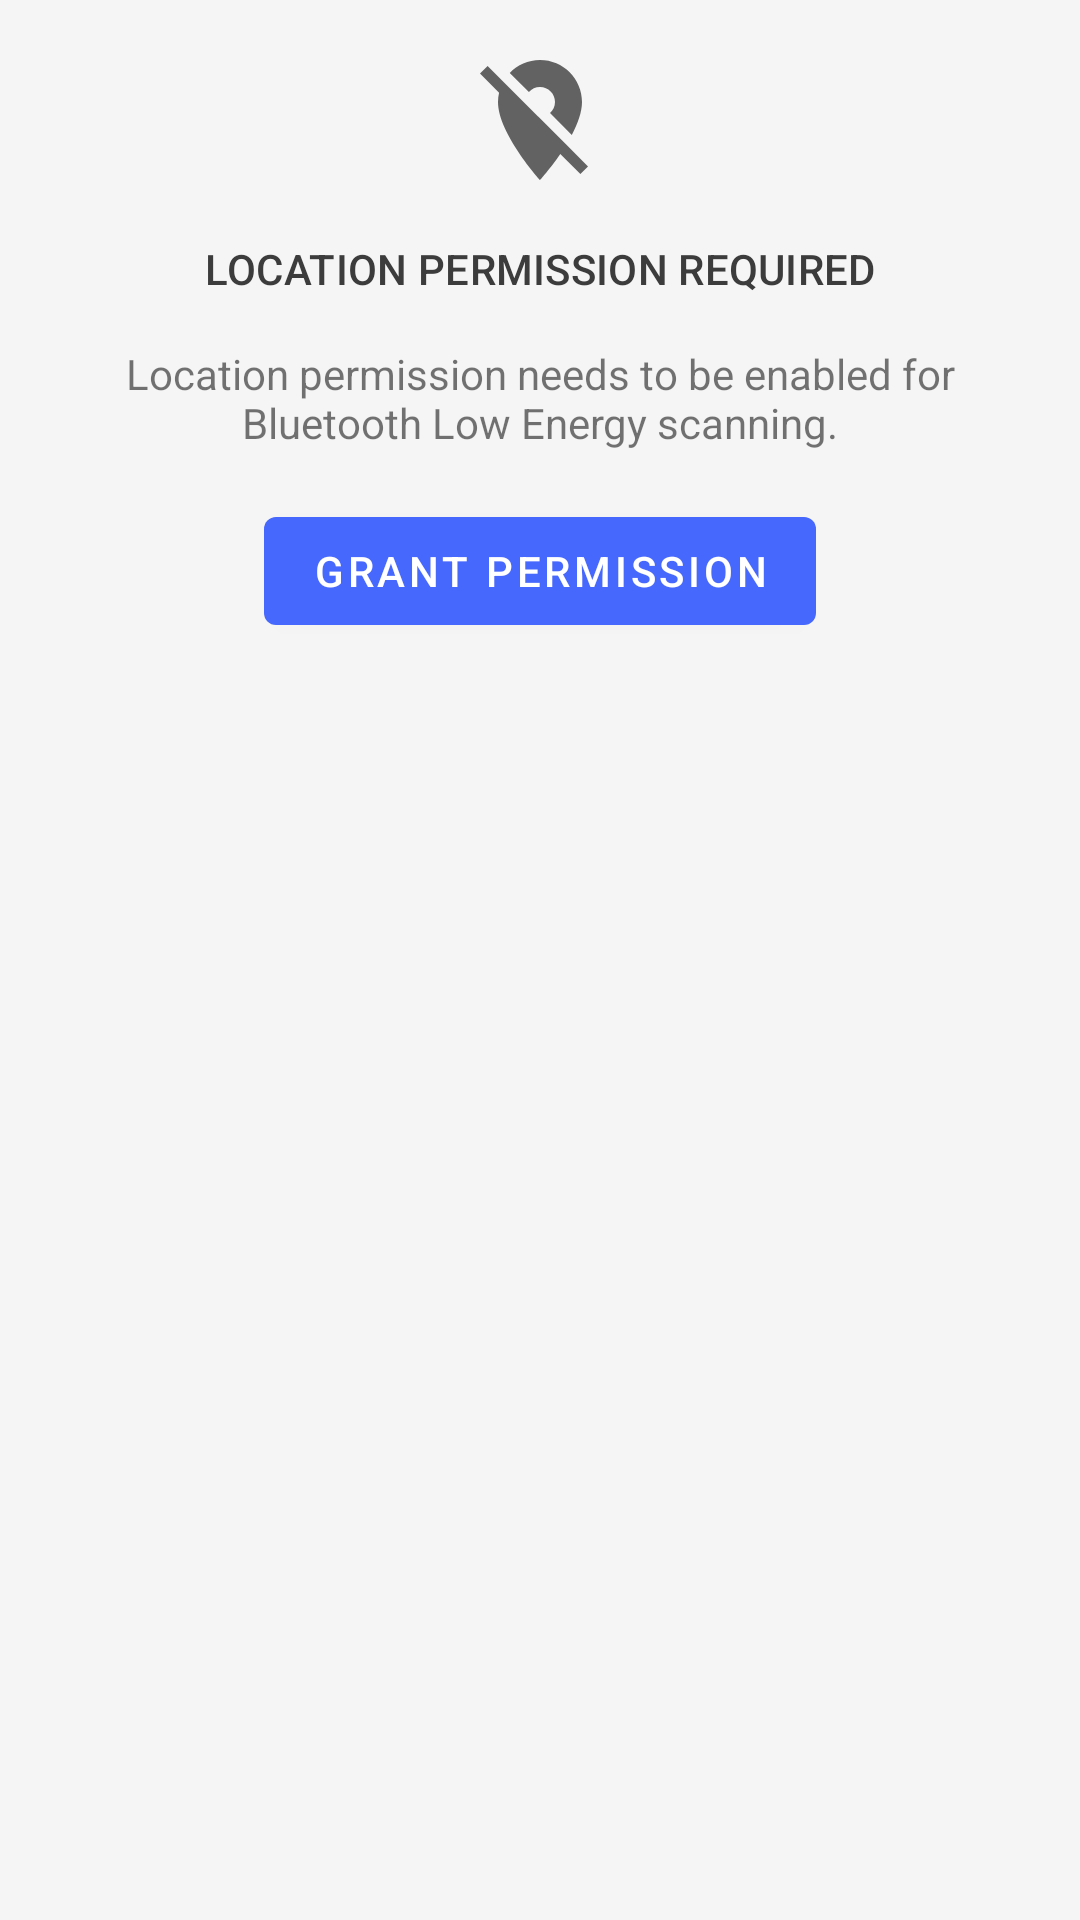

Icons on this 1080x1920 Android screen, each with its box as Rect(x1, y1, x2, y2):
location off: Rect(480, 60, 588, 180)
